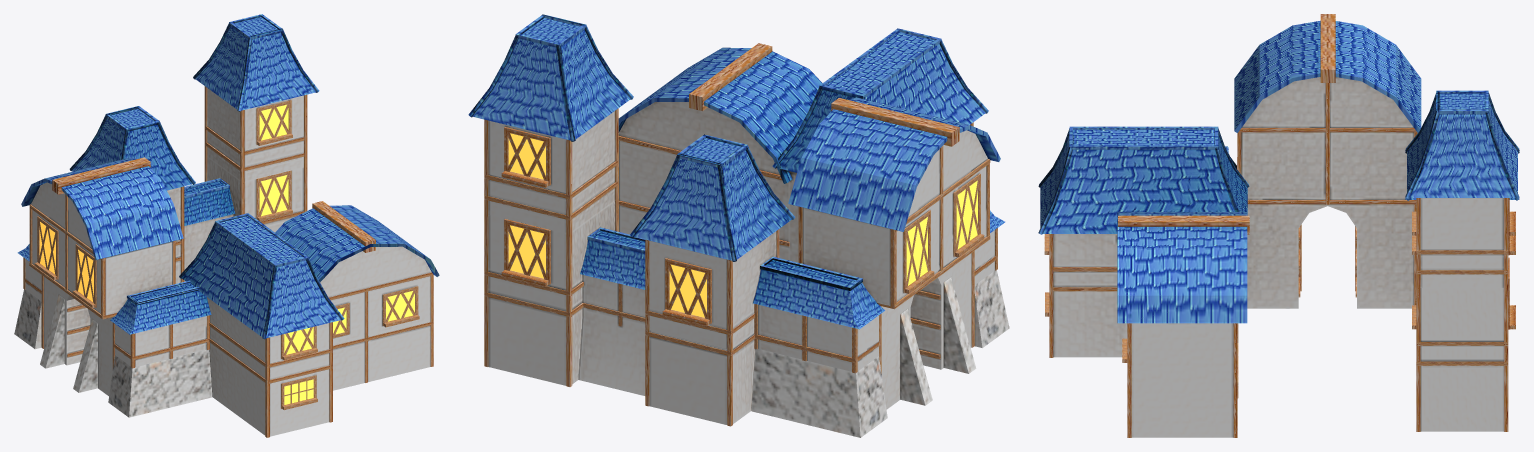
The model's file is settlement.gltf.
3 views of the same model, side by side, from view 1: azimuth 30°, elevation 25°; view 2: azimuth 150°, elevation 25°; view 3: azimuth 270°, elevation 25° (orthographic). The views are drawn at different scales.
Visible parts, largest first — view 1: Object001_01 - Default_0, Box001, Box016, Object002_02 - Default_0, Plane004; view 2: Box001, Object001_01 - Default_0, Box016, Object002_02 - Default_0, Plane004; view 3: Box001, Object001_01 - Default_0, Box016.
Part boxes in pixels (x1,y1,x2,y2): Object001_01 - Default_0: (17,14,439,339); Box001: (25,88,431,436); Box016: (23,86,433,437); Object002_02 - Default_0: (14,289,212,417); Plane004: (39,104,414,404); Box001: (488,102,994,424); Object001_01 - Default_0: (468,14,1004,329); Box016: (484,43,997,426); Object002_02 - Default_0: (751,270,1009,437); Plane004: (508,133,977,317); Box001: (1053,77,1503,437); Object001_01 - Default_0: (1038,20,1519,323); Box016: (1044,14,1515,437).
Bounding box in the file's own units: 0.9128 × 0.7358 × 1.03.
5 materials, 3 textured.
